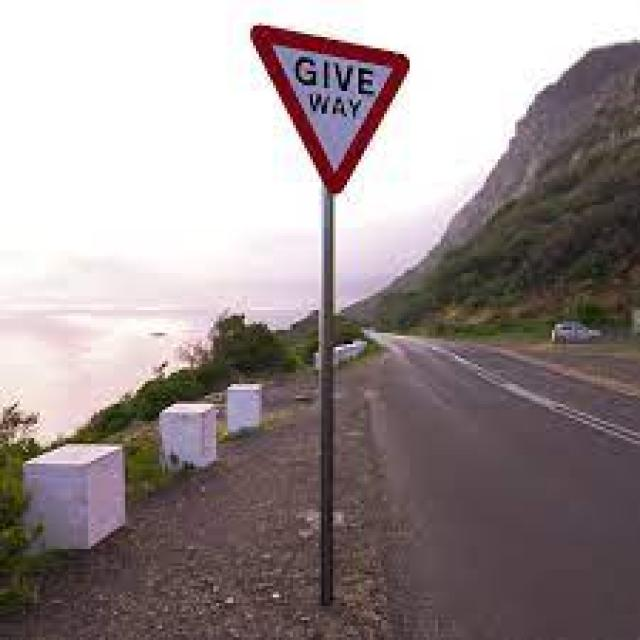GIVE_WAY: (250, 23, 408, 195)
